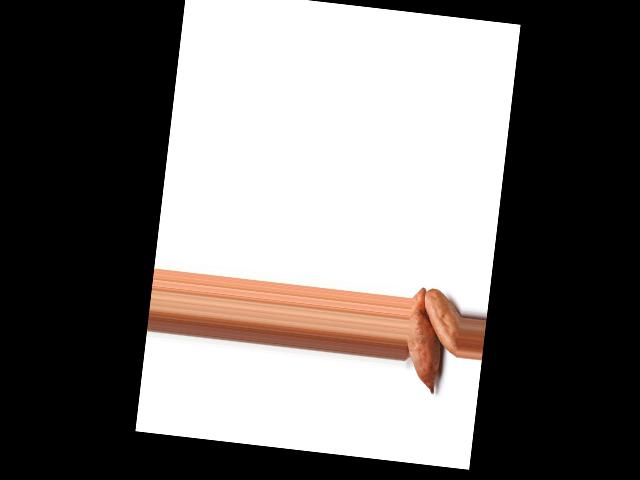sweet_potato: (418, 287, 464, 361)
